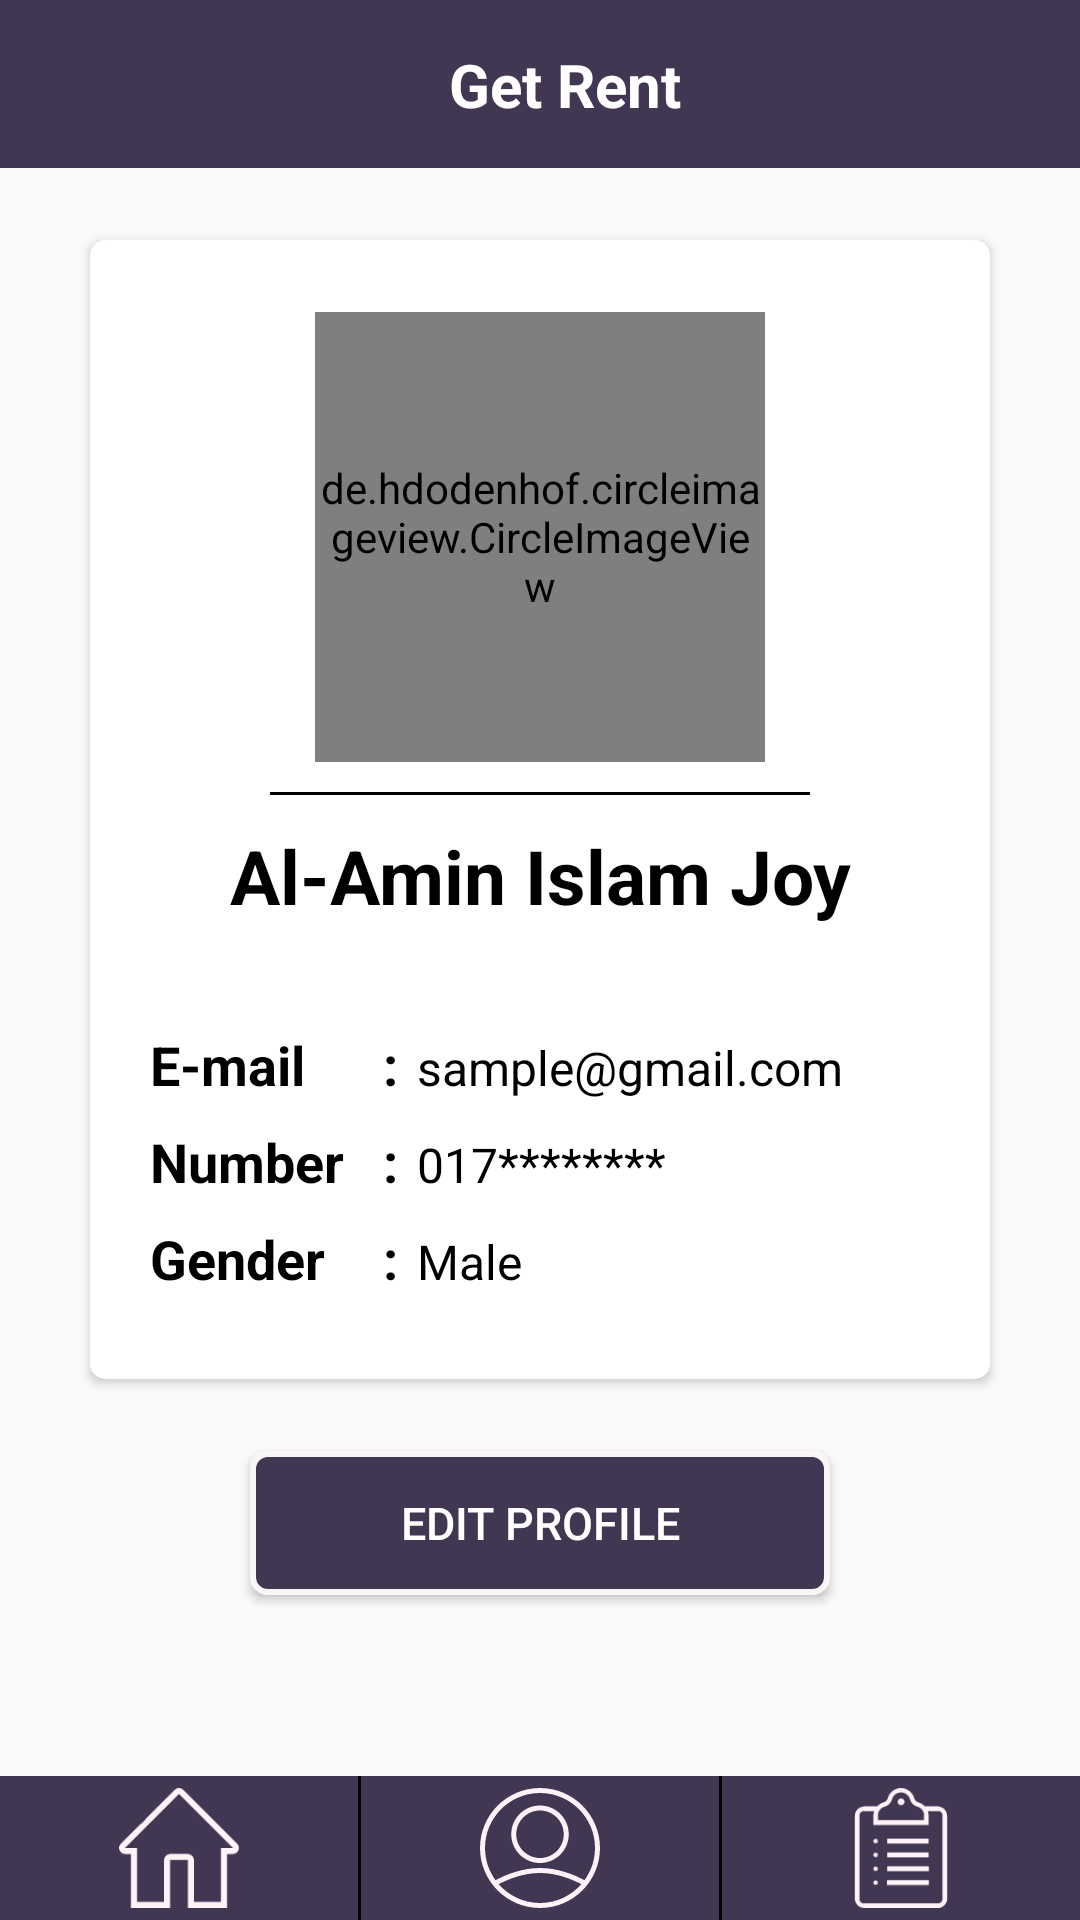

Point at icon controls on the screen. Image size 1080w x 1920h, points as (x,y).
home: (179,1848)
post: (901,1848)
profile: (540,1848)
